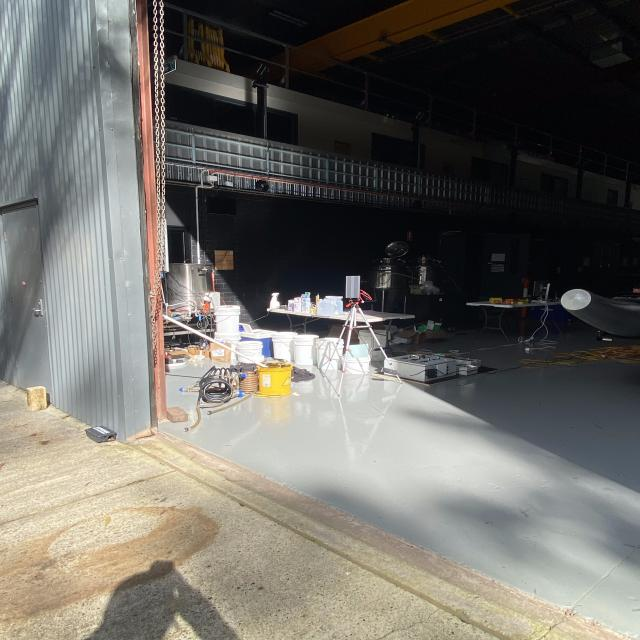matrix: (344, 274, 361, 299)
